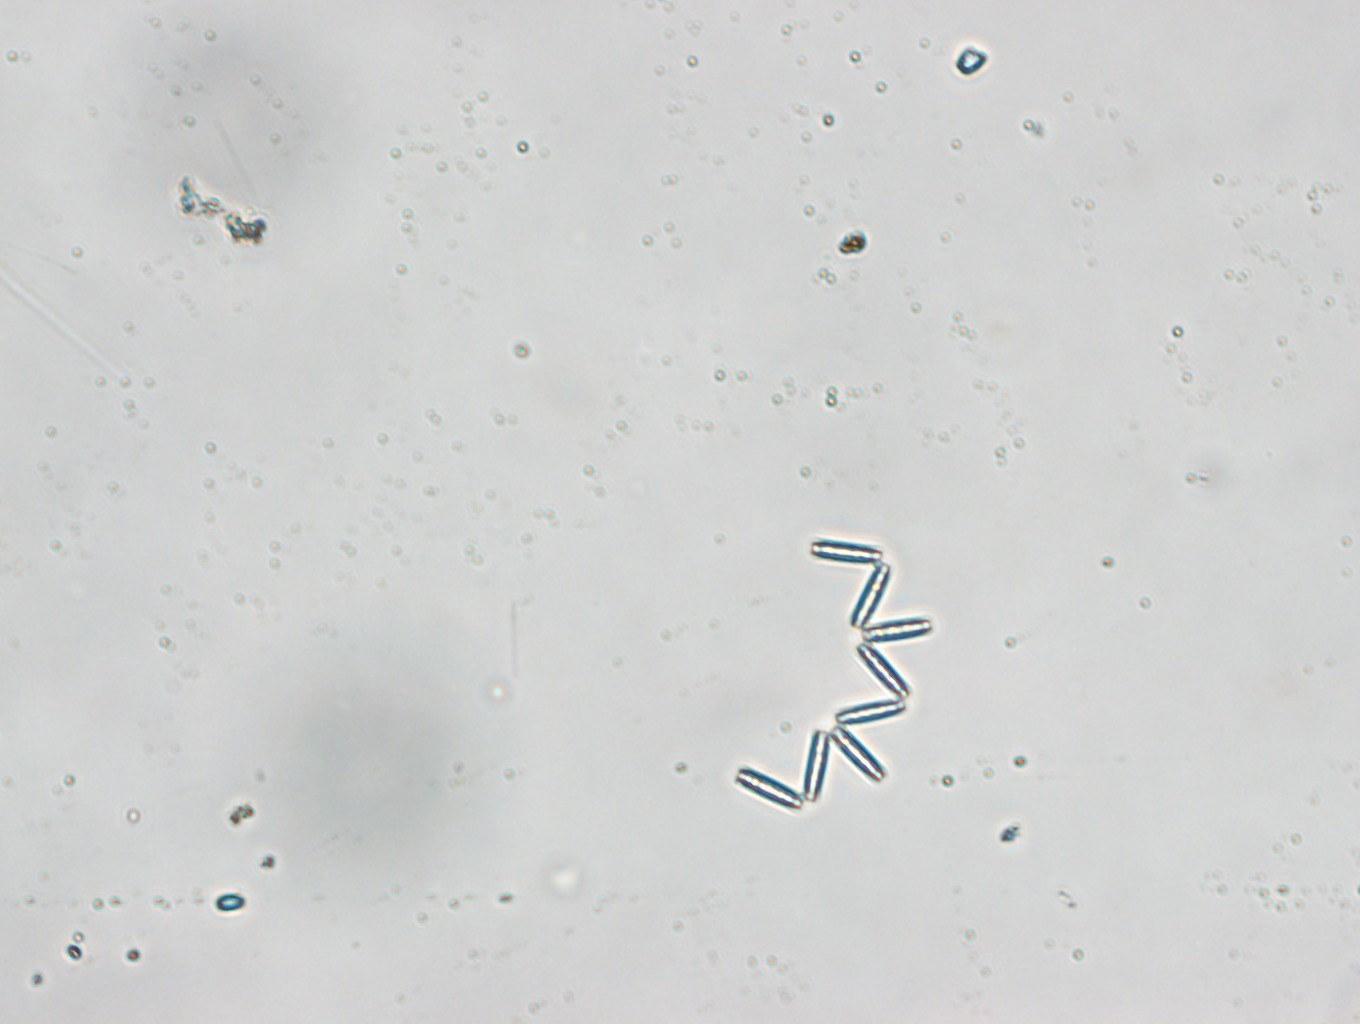thalassionema nitzschioides: (733, 540, 932, 809)
